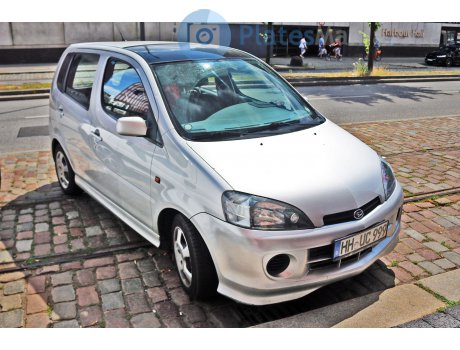License Plates: (343, 221, 385, 248)
